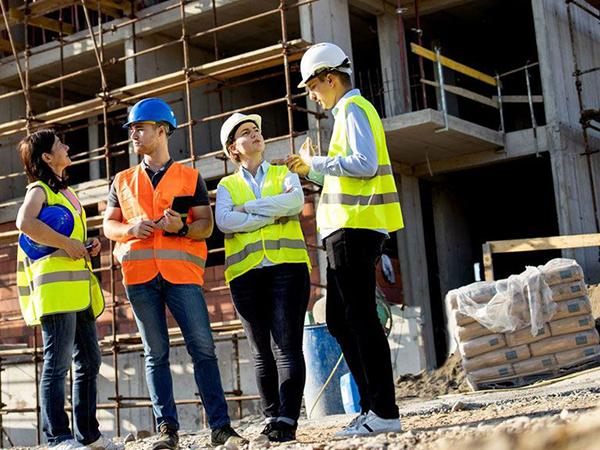Helmet: (296, 42, 351, 88), (219, 112, 262, 158), (122, 97, 177, 129)
Person: (102, 97, 249, 449), (275, 41, 405, 437), (20, 129, 131, 450), (214, 112, 312, 443), (216, 71, 454, 147)
Safety Boot: (334, 409, 401, 437), (204, 422, 247, 448), (258, 415, 296, 443), (151, 421, 179, 449)
Safety Vest: (312, 92, 404, 236), (15, 180, 104, 326), (111, 158, 209, 287), (215, 160, 312, 286)
bare-arms: (126, 213, 157, 242), (285, 153, 310, 179), (158, 208, 182, 233), (61, 234, 86, 258)
no-helmet: (22, 124, 67, 156)
